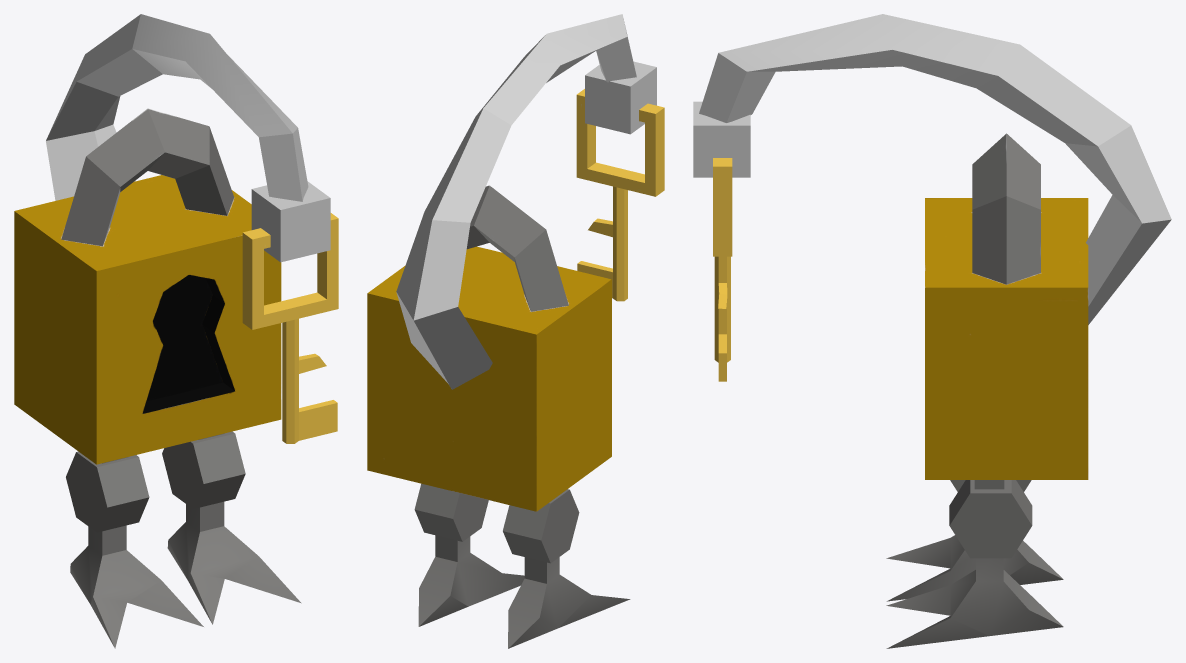
The model's file is Ransomware_1.fbx.
3 views of the same model, side by side, from view 1: azimuth 30°, elevation 25°; view 2: azimuth 150°, elevation 25°; view 3: azimuth 270°, elevation 25° (orthographic). The views are drawn at different scales.
Parts seen in each view (by area): view 1: pCube16, pTorus2, pCube18, pCube9, pCylinder4, pCube12; view 2: pCube16, pTorus2, pCube18, pCube9, pCylinder4, pCube12; view 3: pCube16, pTorus2, pCube9, pCube18, pCylinder4, pCube12.
Part boxes in pixels (<box>): pCube16: <box>14,108,281,464</box>; pTorus2: <box>46,14,308,201</box>; pCube18: <box>66,451,203,648</box>; pCube9: <box>162,431,301,624</box>; pCylinder4: <box>242,213,338,443</box>; pCube12: <box>251,181,330,262</box>; pCube16: <box>367,185,611,511</box>; pTorus2: <box>396,14,636,389</box>; pCube18: <box>503,489,630,648</box>; pCube9: <box>414,483,524,626</box>; pCylinder4: <box>576,89,664,301</box>; pCube12: <box>585,61,656,134</box>; pCube16: <box>925,133,1088,479</box>; pTorus2: <box>699,14,1171,324</box>; pCube9: <box>886,480,1063,648</box>; pCube18: <box>886,480,1063,601</box>; pCylinder4: <box>713,158,732,381</box>; pCube12: <box>693,101,750,177</box>.
Bounding box in the file's own units: 5.17 × 15.73 × 11.56.
1 material, 1 textured.
